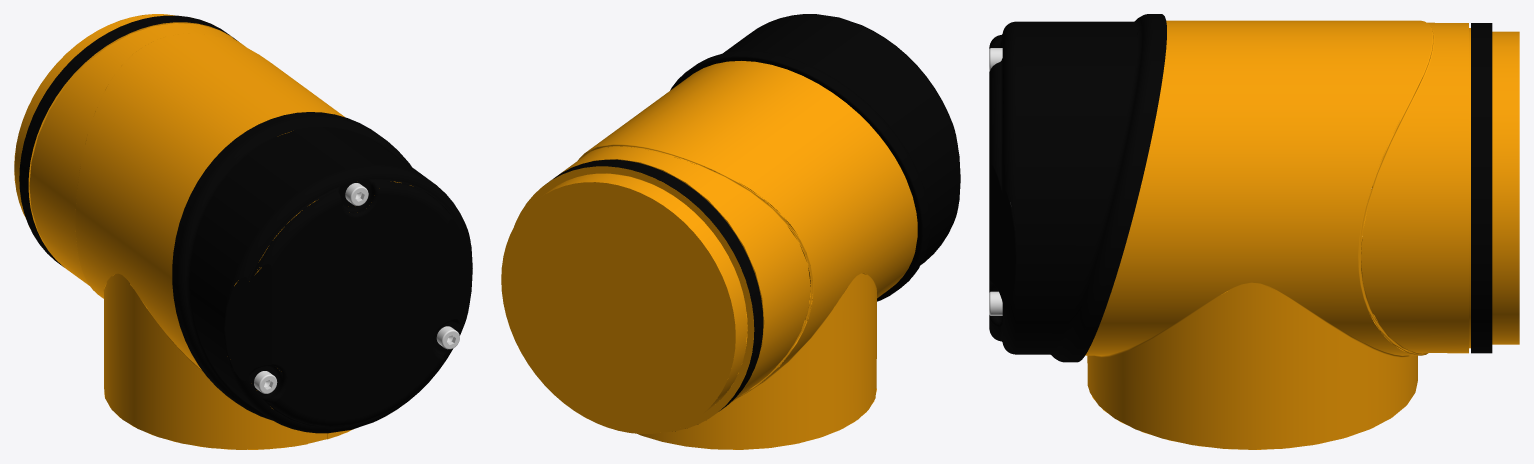
Rendered from wrist1_Link.DAE.
The picture shows the model from 3 angles, left to right: view 1: azimuth 30°, elevation 25°; view 2: azimuth 150°, elevation 25°; view 3: azimuth 270°, elevation 25°; orthographic projection. The views are drawn at different scales.
Parts seen in each view (by area): view 1: NONE-DC_Shell_ncl1_5, NONE-DC_Shell_ncl1_2, NONE-DC_Shell_ncl1_4, NONE-DC_Shell_ncl1_3; view 2: NONE-DC_Shell_ncl1_2, NONE-DC_Shell_ncl1_3, NONE-DC_Shell_ncl1_5, NONE-DC_Shell_ncl1_4; view 3: NONE-DC_Shell_ncl1_2, NONE-DC_Shell_ncl1_5, NONE-DC_Shell_ncl1_3, NONE-DC_Shell_ncl1_4.
Part boxes in pixels (bbox=[...]): NONE-DC_Shell_ncl1_5: bbox=[172, 112, 472, 433]; NONE-DC_Shell_ncl1_2: bbox=[28, 22, 411, 449]; NONE-DC_Shell_ncl1_4: bbox=[19, 15, 238, 266]; NONE-DC_Shell_ncl1_3: bbox=[14, 14, 232, 275]; NONE-DC_Shell_ncl1_2: bbox=[559, 61, 917, 449]; NONE-DC_Shell_ncl1_3: bbox=[501, 166, 754, 433]; NONE-DC_Shell_ncl1_5: bbox=[670, 14, 960, 301]; NONE-DC_Shell_ncl1_4: bbox=[549, 159, 763, 431]; NONE-DC_Shell_ncl1_2: bbox=[1085, 20, 1470, 449]; NONE-DC_Shell_ncl1_5: bbox=[989, 14, 1166, 362]; NONE-DC_Shell_ncl1_3: bbox=[1492, 31, 1519, 344]; NONE-DC_Shell_ncl1_4: bbox=[1471, 23, 1492, 353].
Size of the model in its own units: 79 by 120 by 87.5.
